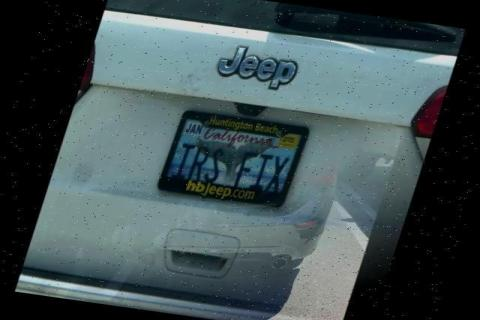LicensePlate: (154, 109, 314, 211)
